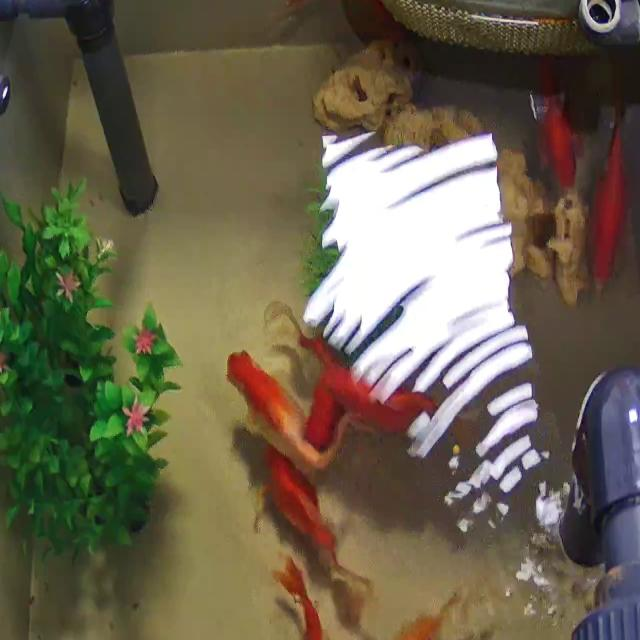fish: (233, 340, 349, 481), (307, 342, 437, 450), (260, 444, 342, 565), (590, 75, 631, 286), (530, 58, 582, 200), (378, 584, 485, 640), (272, 551, 338, 640)
